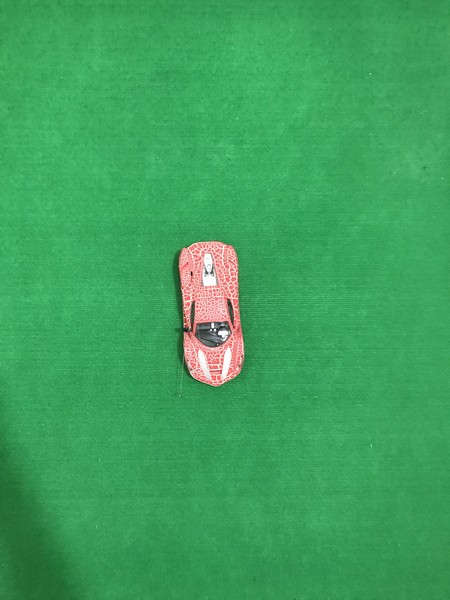RC: (170, 237, 248, 389)
